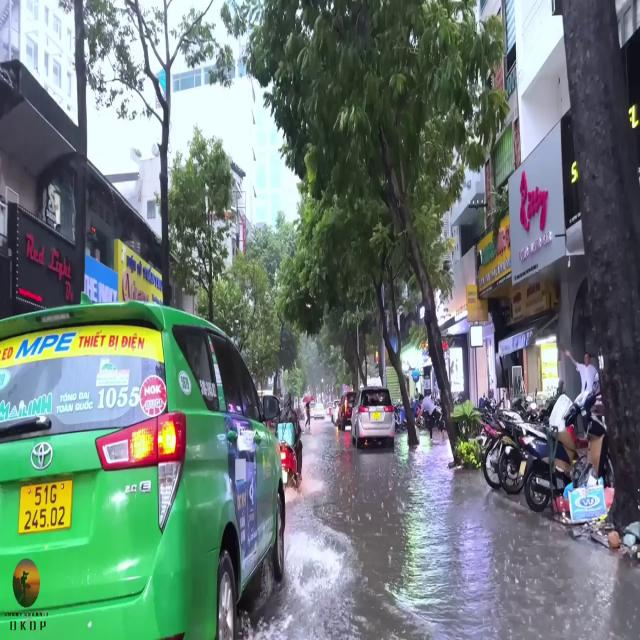bien_vang: (21, 482, 71, 534)
